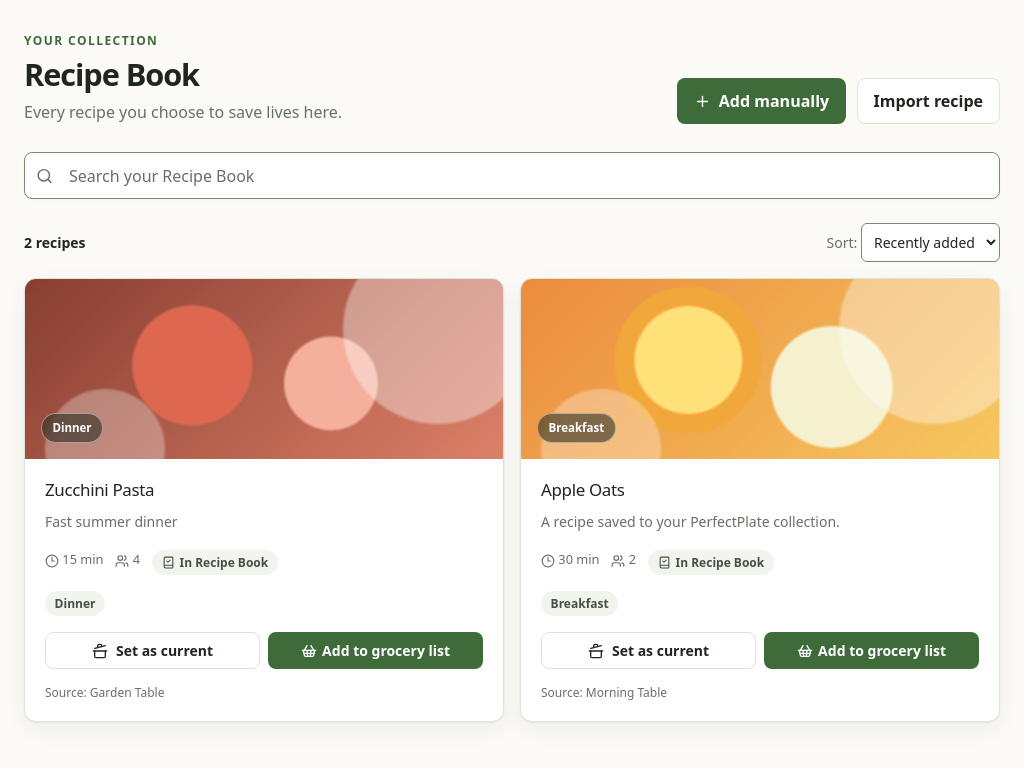
Scenario: RecipeBookPage › searches and sorts mapped backend recipes
expect the text "2 recipes" is shown: met, box x1=24 y1=233 x2=86 y2=253
Type "morning" into the field with placeholder "Search your Recipe Book".
click(512, 176); type("morning")  # box x1=24 y1=152 x2=1000 y2=199
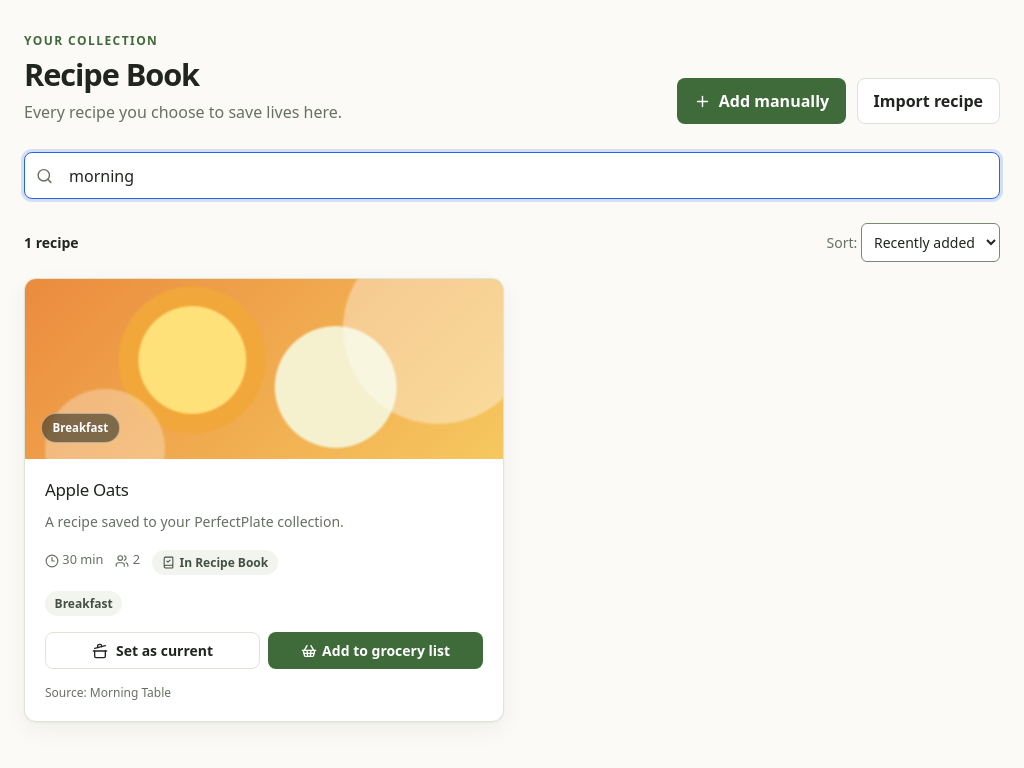
expect the heading "Apple Oats" is shown: met, box x1=45 y1=478 x2=129 y2=501
expect the text "1 recipe" is shown: met, box x1=24 y1=233 x2=79 y2=253
Clear the field with placeholder "Search your Recipe Book" at (512, 176), box x1=24 y1=152 x2=1000 y2=199
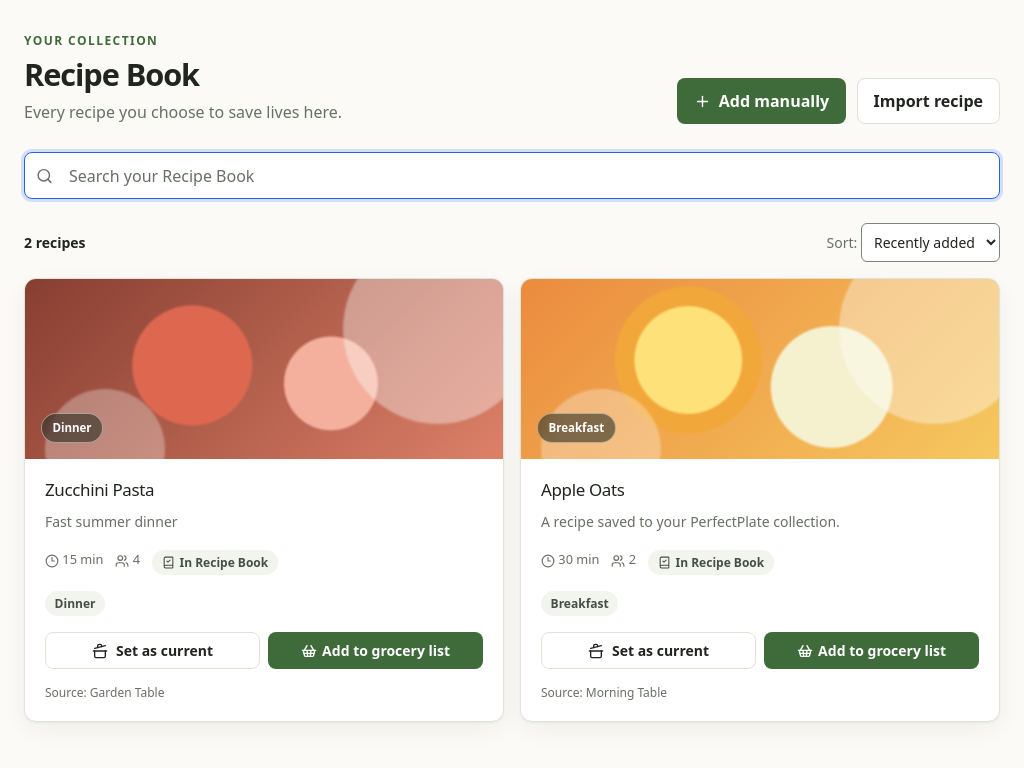
Select "A–Z" in the dropdown at (930, 243), box x1=861 y1=223 x2=1000 y2=262
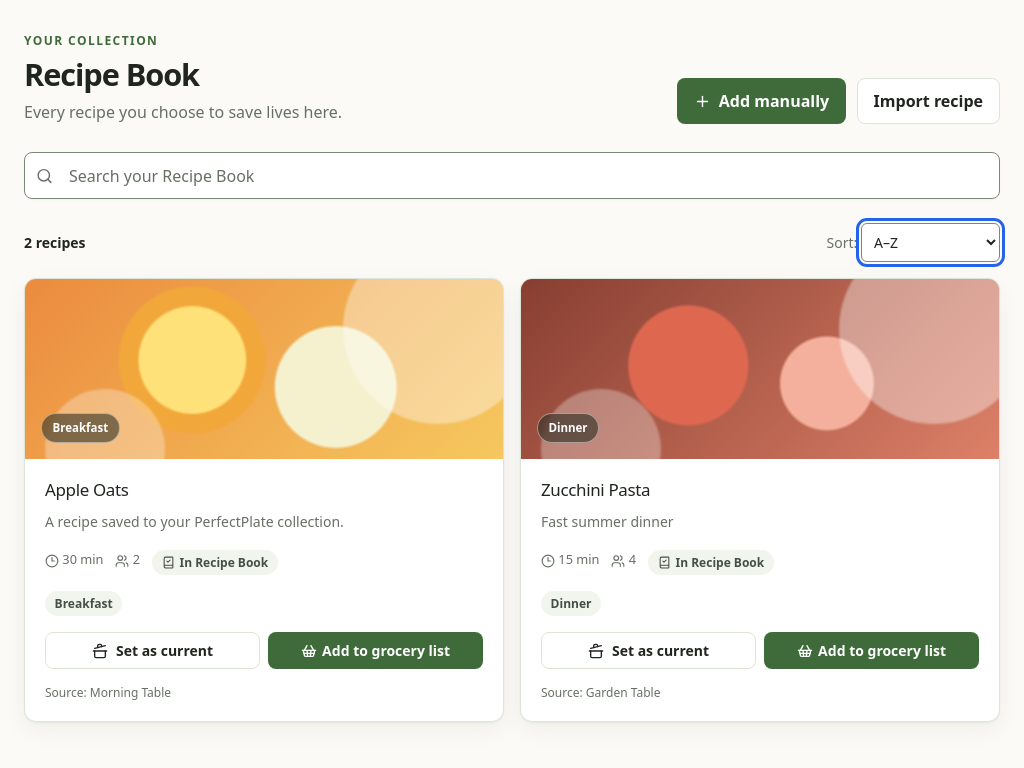
expect the headings read "Apple Oats", "Zucchini Pasta", in this order: met, box x1=45 y1=478 x2=129 y2=501; x1=541 y1=478 x2=650 y2=501
